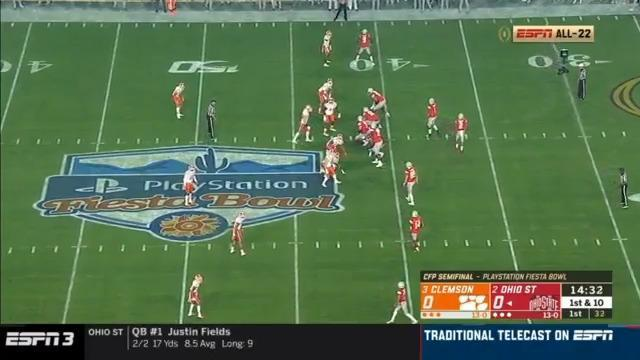player: (391, 280, 418, 324), (184, 272, 206, 321), (292, 103, 315, 145), (229, 209, 248, 259), (451, 111, 471, 158), (353, 27, 376, 67), (180, 163, 200, 208), (407, 210, 427, 255), (402, 159, 421, 206), (365, 124, 385, 168), (321, 144, 341, 188), (422, 96, 442, 139), (322, 97, 342, 139), (170, 80, 189, 124), (368, 87, 391, 120), (321, 27, 338, 69), (318, 77, 337, 113), (354, 113, 375, 145), (361, 122, 385, 145), (359, 106, 380, 132), (325, 133, 347, 156), (327, 154, 347, 175)
ref: (617, 166, 633, 210), (573, 63, 588, 103), (205, 97, 218, 139), (334, 0, 351, 23)
